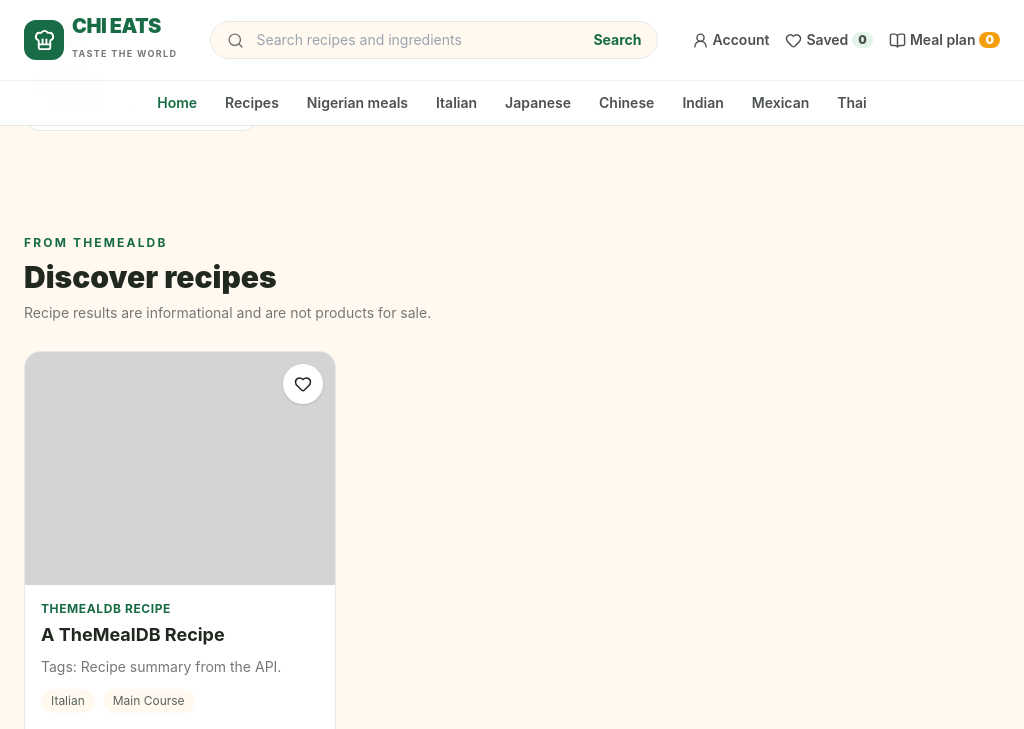
Test: favorite recipe IDs persist locally without requiring product data
The width and height of the screenshot is (1024, 729).
(page scrolled)
Click the button named "Save A TheMealDB Recipe to favorites".
click(303, 384)  # box [283,364,323,404]
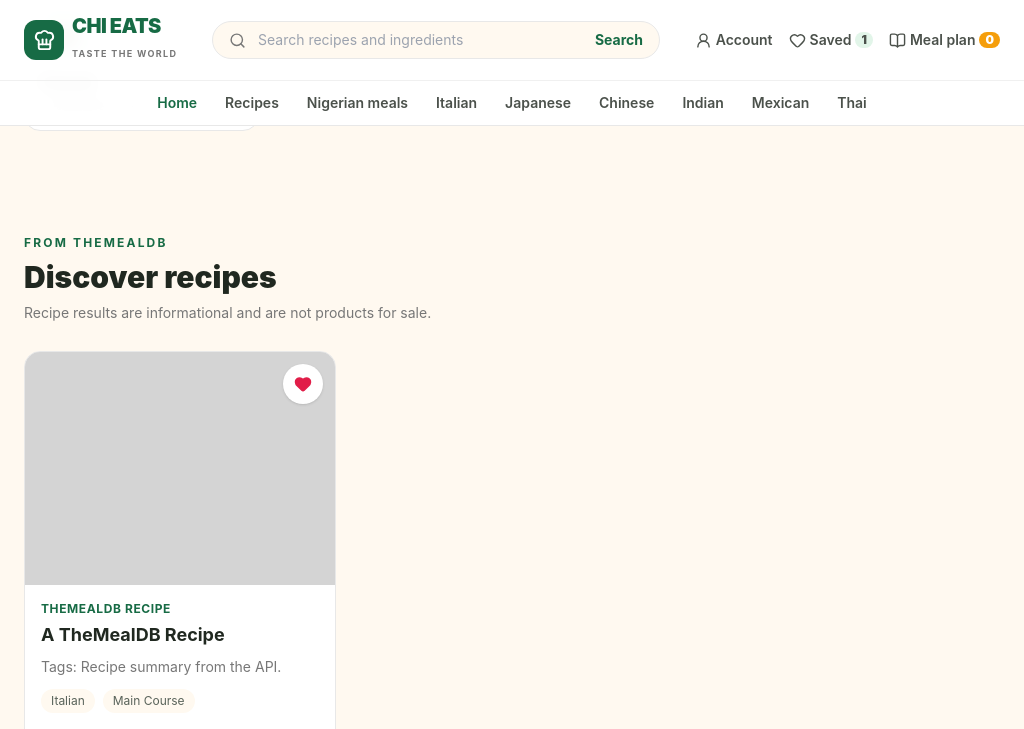
Expected: the button named "Remove A TheMealDB Recipe from favorites" is shown, [283,364,323,404]
